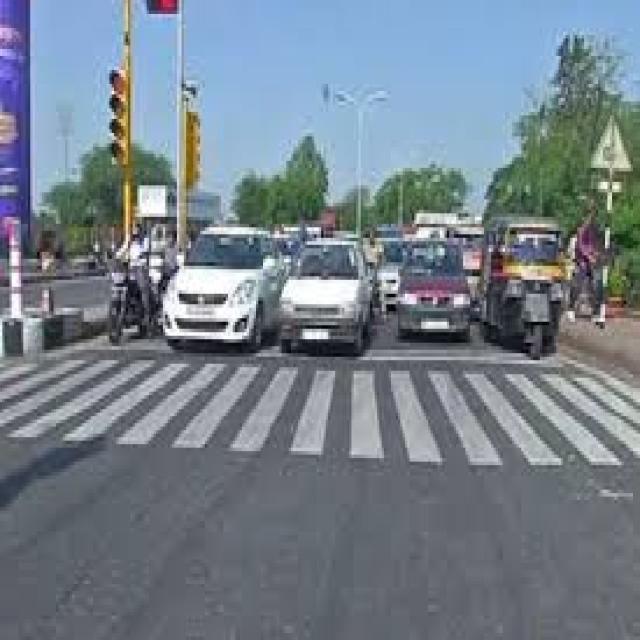auto ahead at: (486, 209, 572, 353)
car ahead at: (162, 215, 276, 344), (283, 233, 378, 353), (396, 235, 473, 338)
motorcycle ahead at: (98, 222, 157, 344)
traffic signal ahead at: (99, 58, 135, 178)
zebra crossing ahead at: (0, 349, 640, 471)
